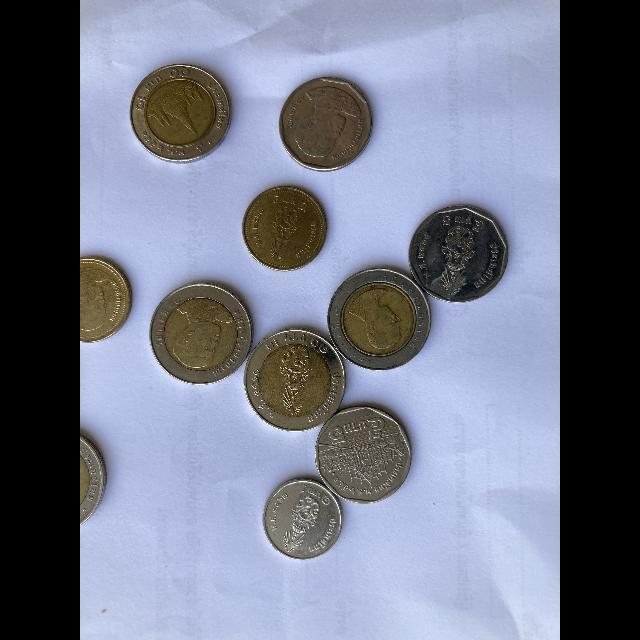1 Bath: (261, 475, 347, 563)
10 Bath: (124, 59, 236, 168), (244, 321, 350, 436), (149, 280, 257, 389), (330, 266, 437, 373), (80, 425, 113, 531)
2 Bath: (241, 178, 331, 275), (81, 254, 139, 351)
5 Bath: (310, 401, 420, 507), (410, 200, 510, 309), (278, 74, 379, 178)
